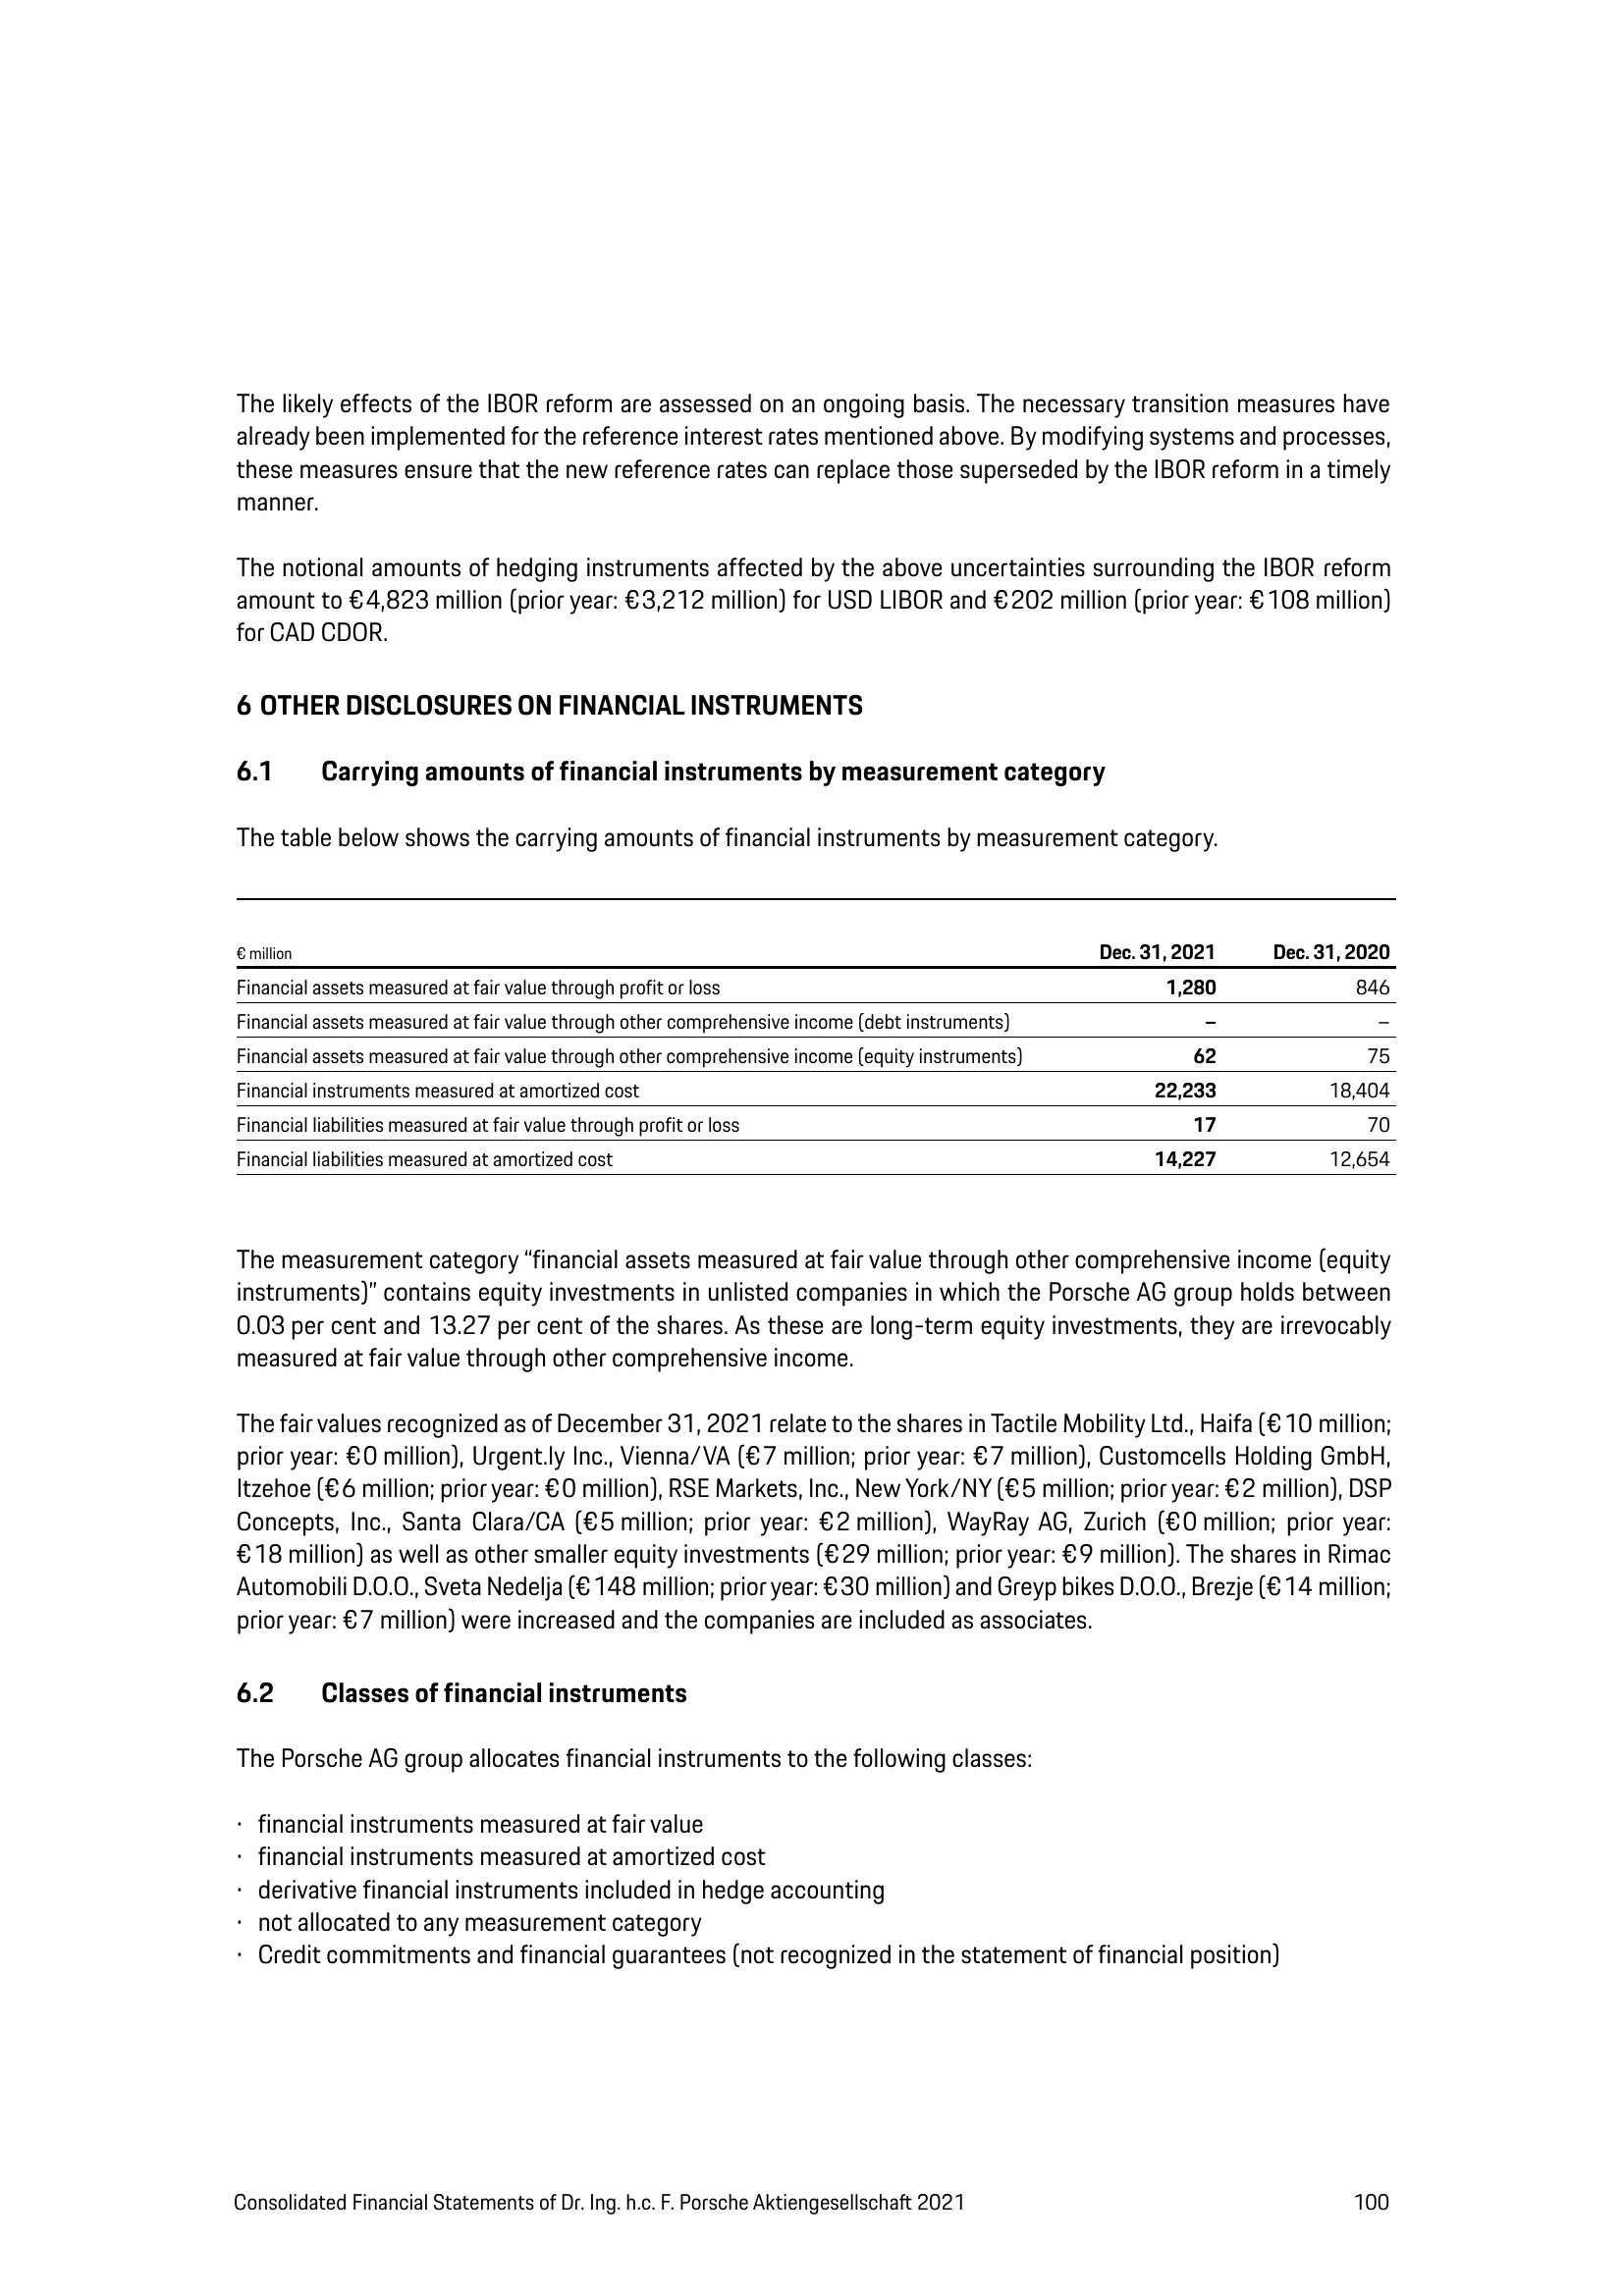Footer: (0, 2143, 1624, 2296)
Header: (0, 0, 1624, 211)
Table: (207, 908, 1425, 1182)
